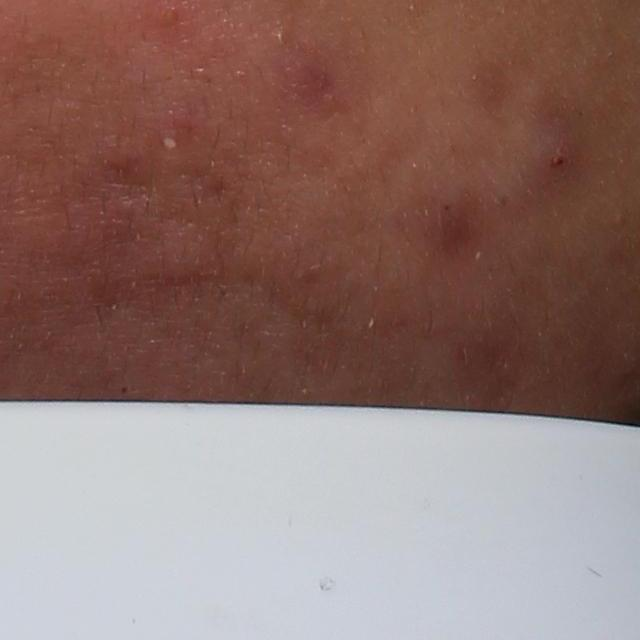papule: (519, 129, 578, 198)
pustule: (155, 124, 183, 156)
